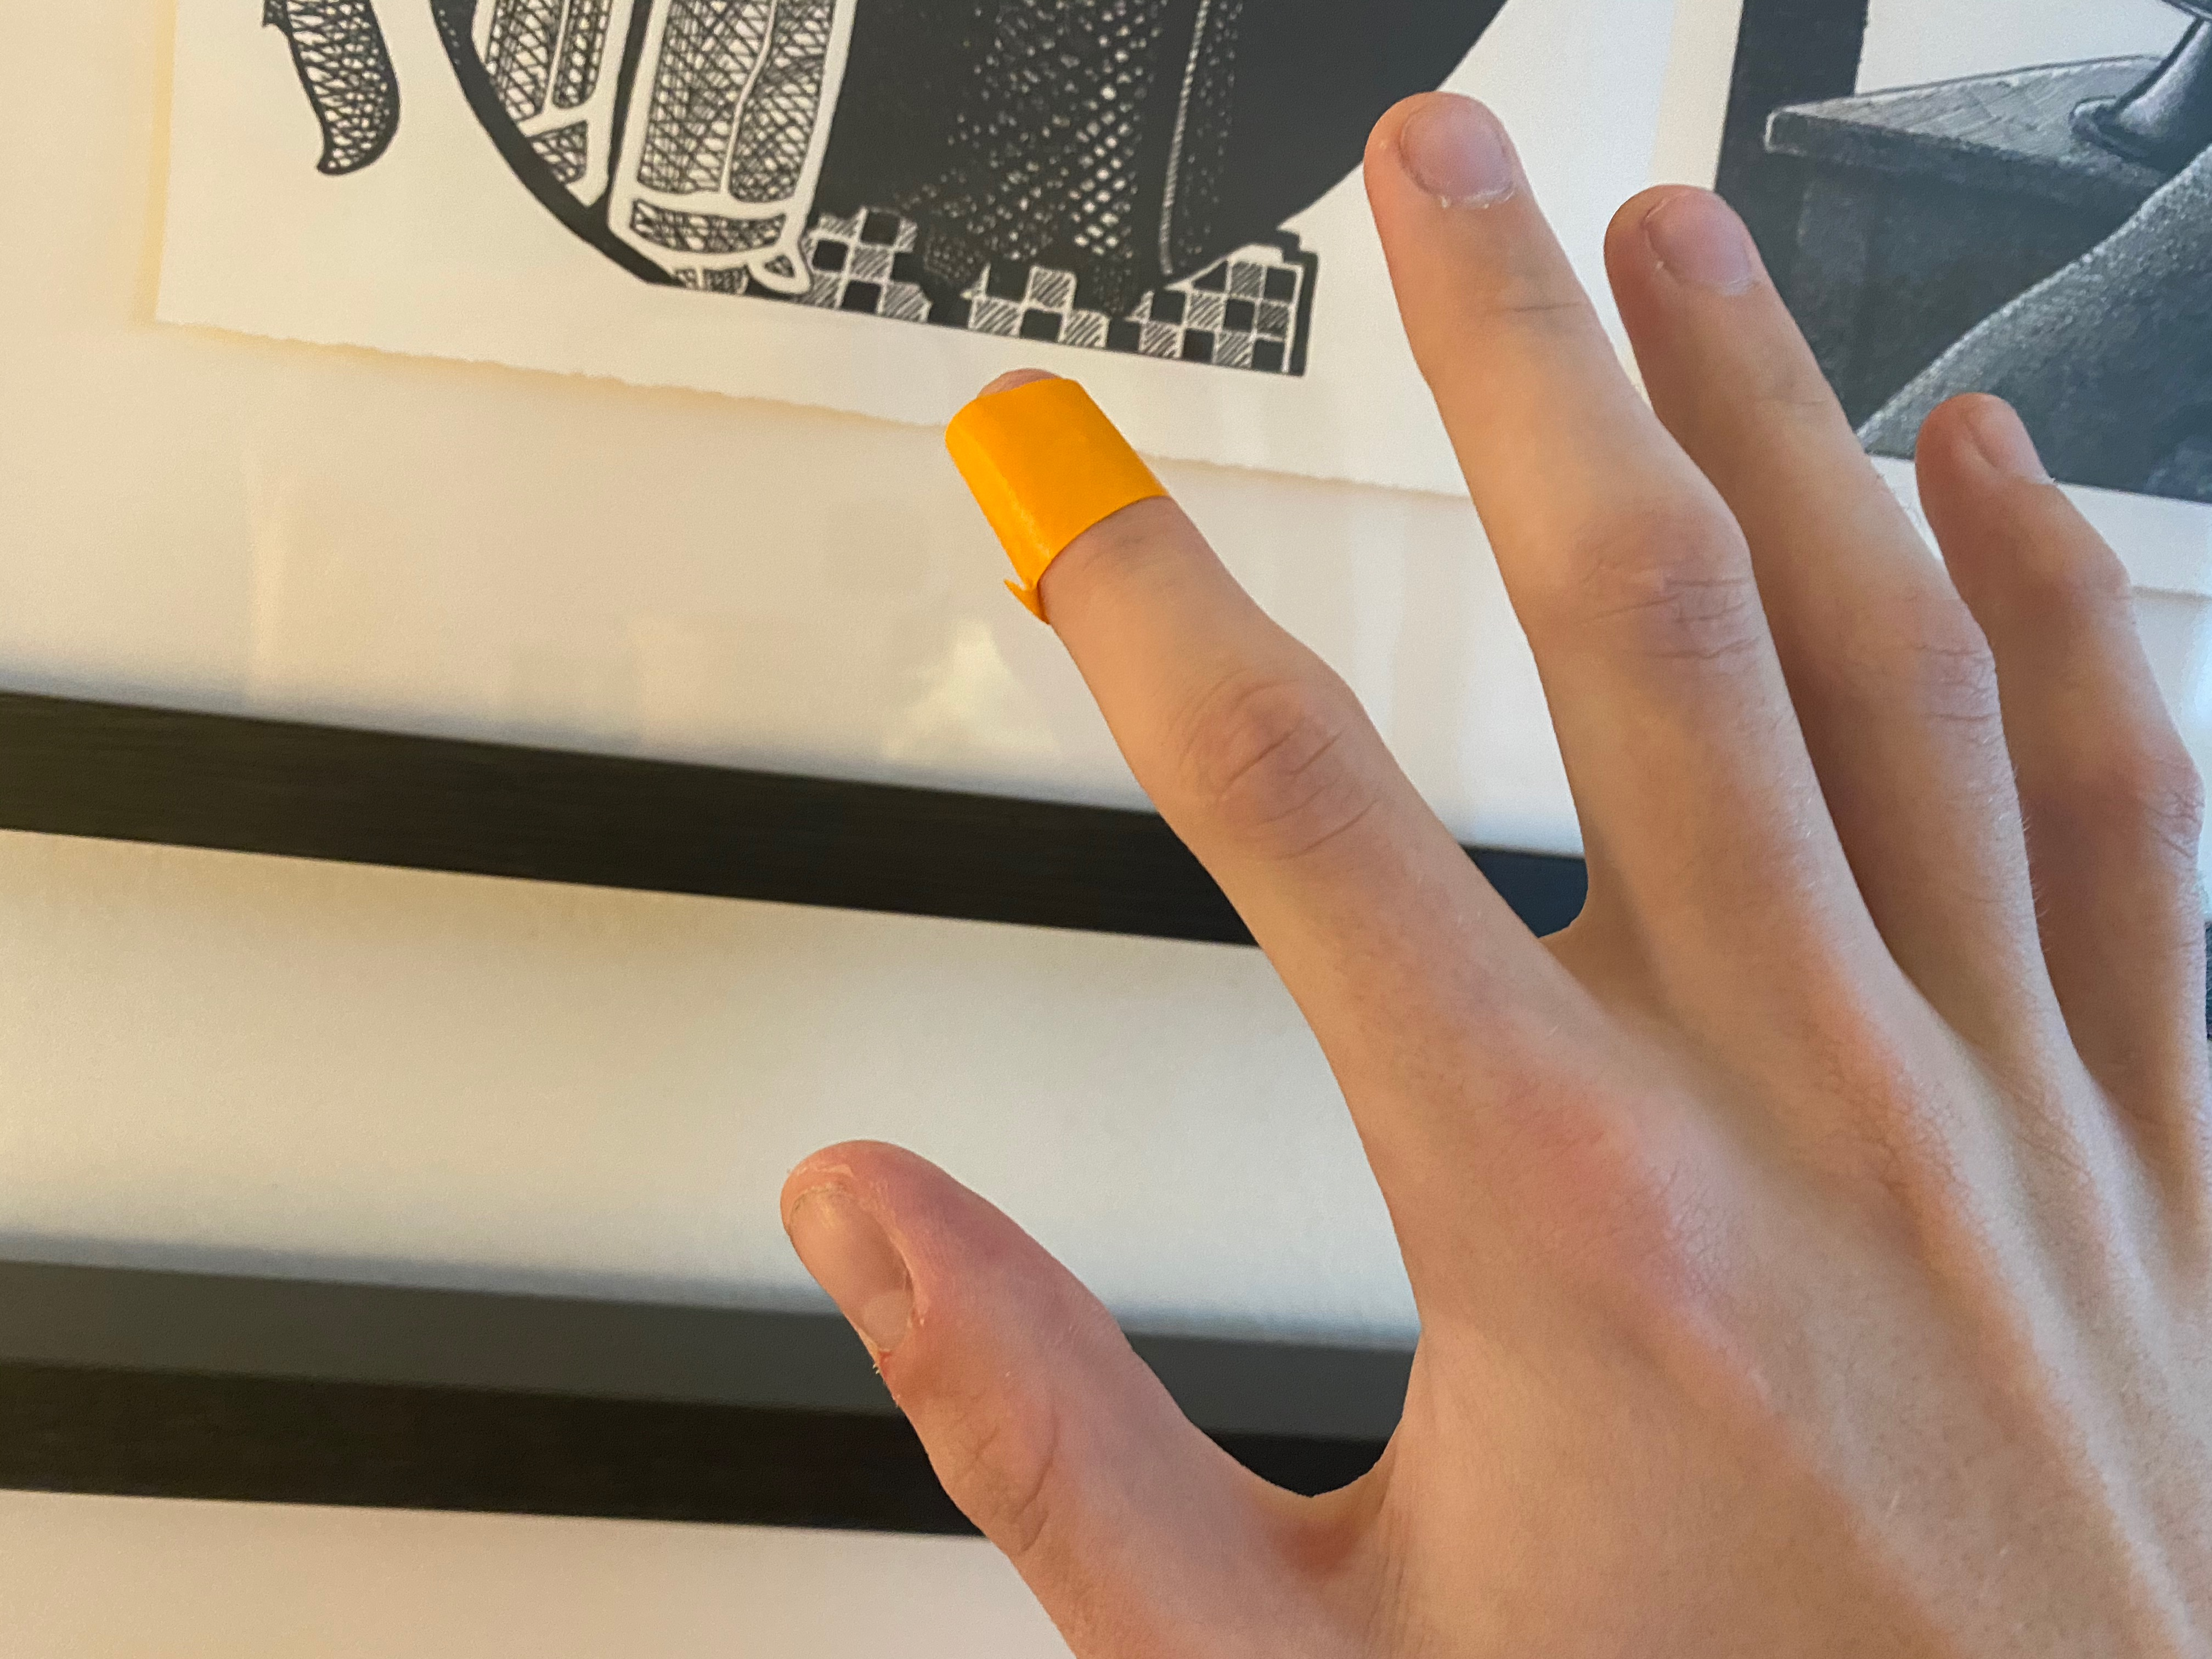fingertip: (852, 362, 1249, 629)
